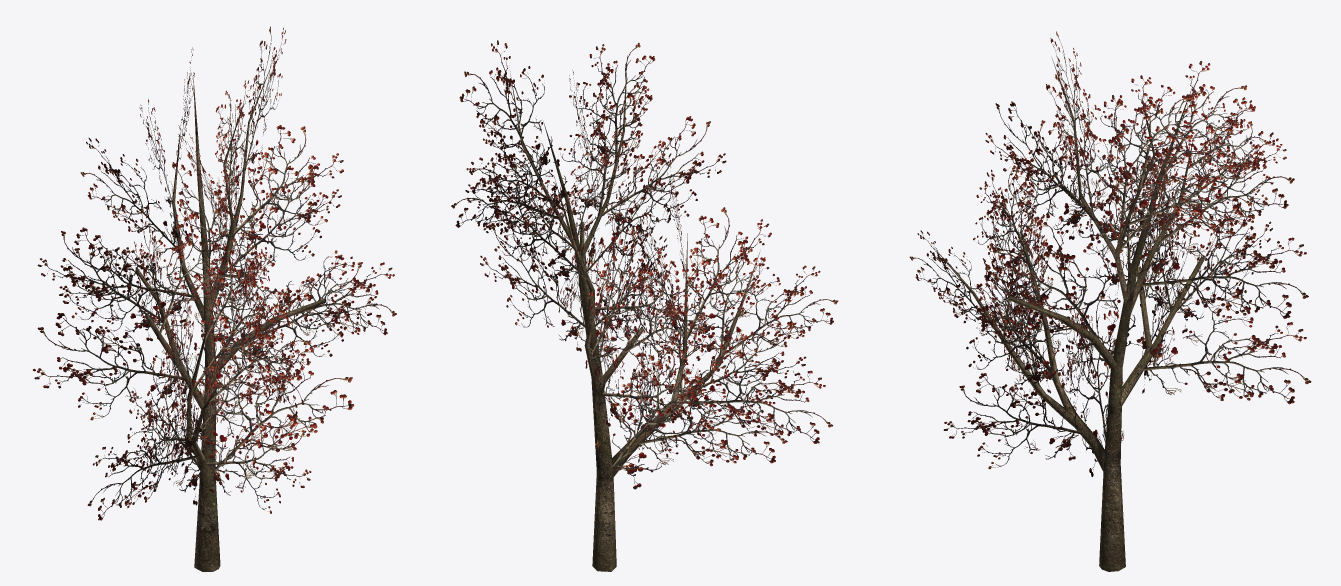
The picture shows the model from 3 angles, left to right: view 1: azimuth 30°, elevation 25°; view 2: azimuth 150°, elevation 25°; view 3: azimuth 270°, elevation 25°; orthographic projection. The views are drawn at different scales.
Visible parts, largest first — view 1: 364; view 2: 364; view 3: 364.
Boxes of the visible parts, x1,y1,x2,y2 form: 364: (33, 26, 396, 571); 364: (451, 40, 838, 571); 364: (909, 31, 1311, 571).
Bounding box in the file's own units: 11.62 × 16.79 × 12.16.
